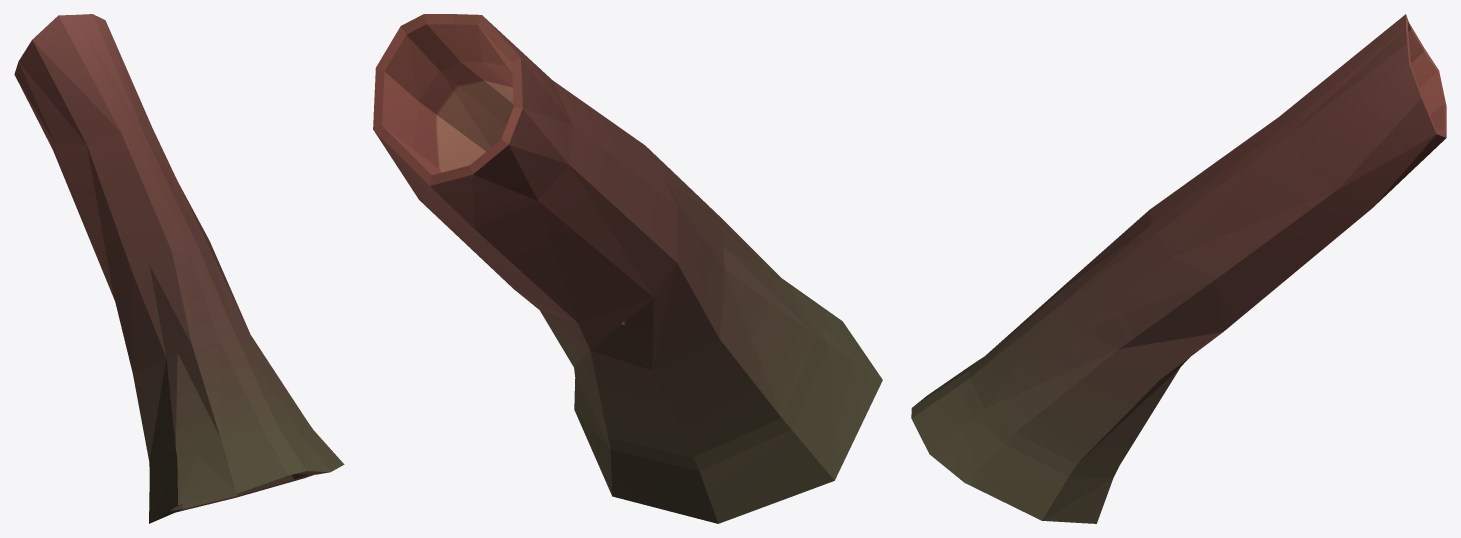
The model's file is Hollow_Tree.fbx.
3 views of the same model, side by side, from view 1: azimuth 30°, elevation 25°; view 2: azimuth 150°, elevation 25°; view 3: azimuth 270°, elevation 25° (orthographic). The views are drawn at different scales.
Visible parts, largest first — view 1: LooseTree_3; view 2: LooseTree_3; view 3: LooseTree_3.
Boxes of the visible parts, x1,y1,x2,y2 form: LooseTree_3: (14, 14, 344, 523); LooseTree_3: (373, 14, 882, 523); LooseTree_3: (911, 14, 1446, 523).
Size of the model in its own units: 4.24 by 9.89 by 9.82.
